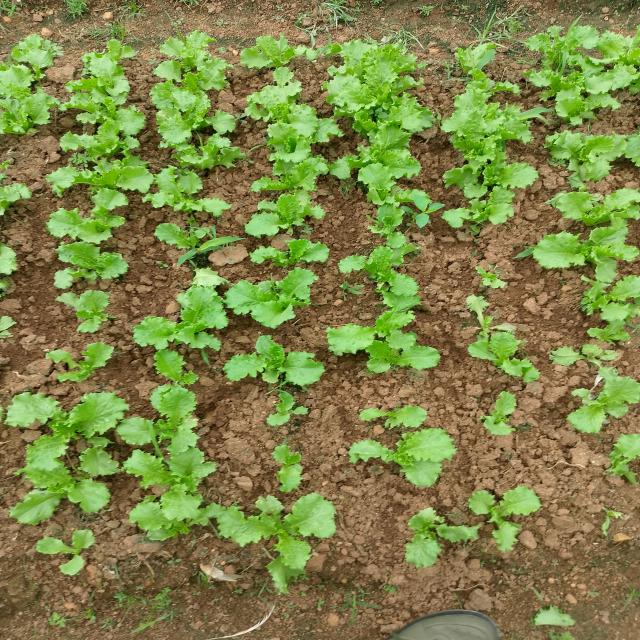Lettuce: (346, 402, 459, 490), (221, 490, 342, 566), (319, 312, 440, 384), (24, 390, 130, 460), (534, 218, 640, 280), (130, 113, 242, 171), (343, 114, 411, 208), (0, 49, 67, 144), (467, 477, 546, 551), (242, 264, 318, 332), (546, 132, 640, 182), (401, 502, 468, 572), (581, 348, 640, 415), (34, 524, 102, 579), (43, 337, 119, 386), (152, 222, 232, 268), (56, 288, 120, 337), (150, 166, 210, 215), (478, 389, 528, 443), (263, 236, 329, 275), (448, 41, 500, 87), (602, 431, 640, 489), (264, 195, 313, 238), (0, 169, 32, 228)
